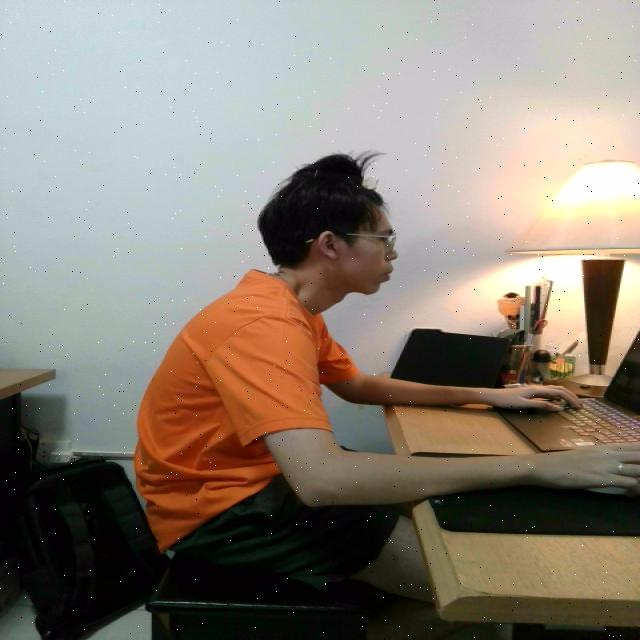Bad: (111, 139, 455, 582)
